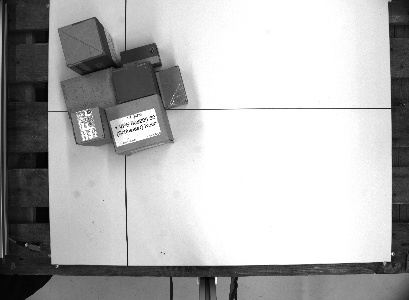b1: (154, 64, 188, 109)
b2: (69, 107, 109, 145)
b3: (119, 41, 161, 67)
b4: (54, 15, 117, 70)
b5: (105, 94, 174, 158)
b6: (59, 66, 114, 107)
b7: (112, 62, 156, 101)
